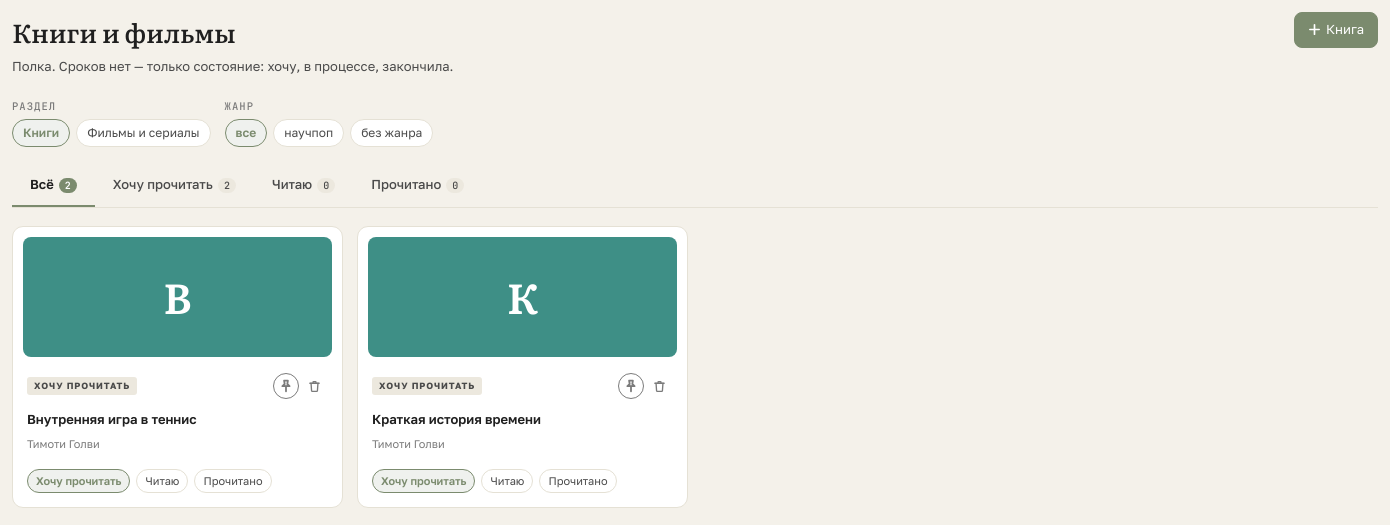
Scenario: жанры на полке › «без жанра» показывает то, чему жанр не проставлен
The width and height of the screenshot is (1390, 525).
Expected: the text "Внутренняя игра в теннис" is shown, x1=27 y1=411 x2=196 y2=427
Click the button "без жанра" at (392, 133), box x1=350 y1=119 x2=433 y2=147
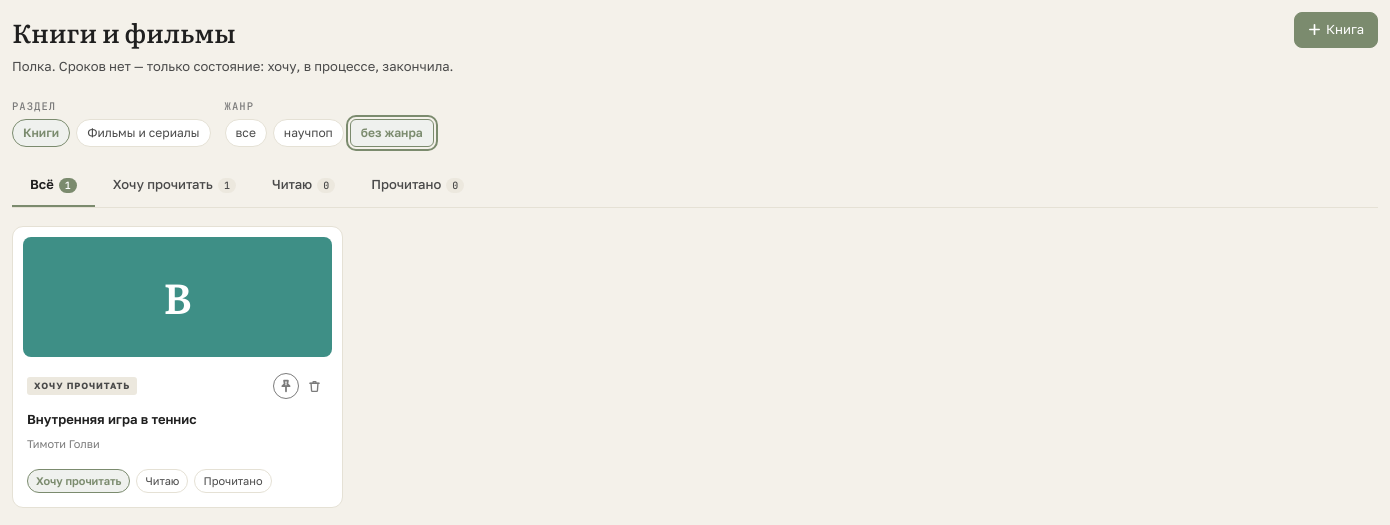
Expected: the text "Внутренняя игра в теннис" is shown, x1=27 y1=411 x2=196 y2=427
Result: the text "Краткая история времени" is gone
